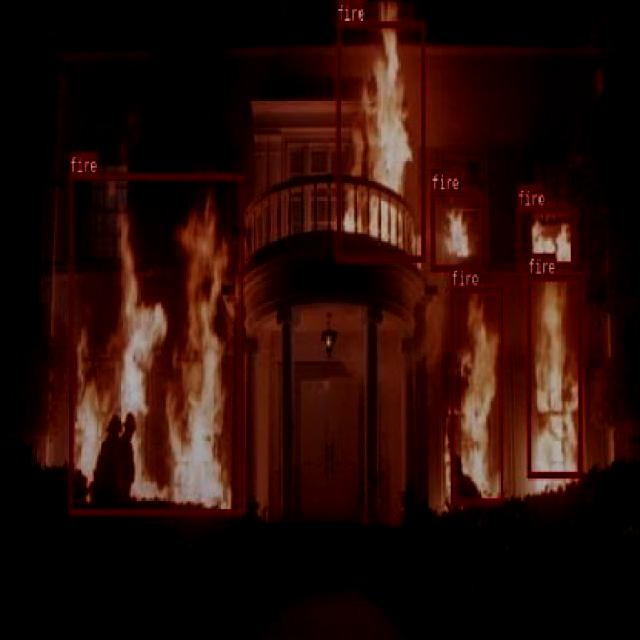fire: (69, 173, 242, 515), (336, 21, 424, 261), (450, 286, 502, 503), (527, 273, 581, 478), (430, 190, 484, 270), (517, 206, 574, 268)
